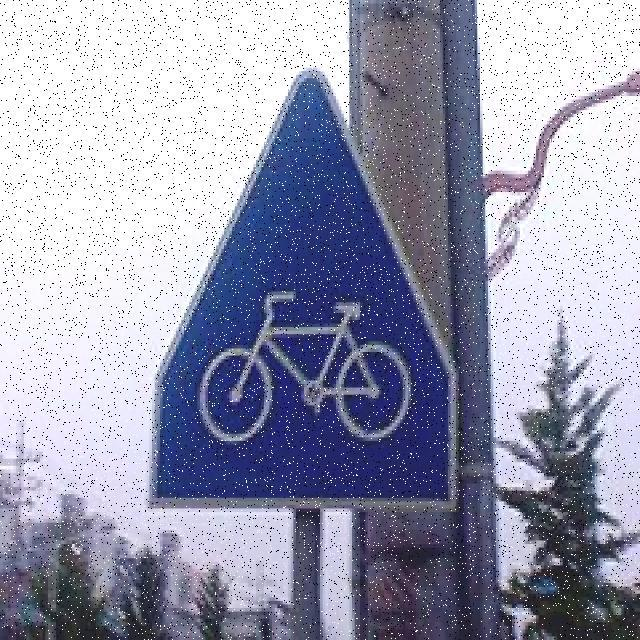Traffic sign: (138, 62, 466, 521)
